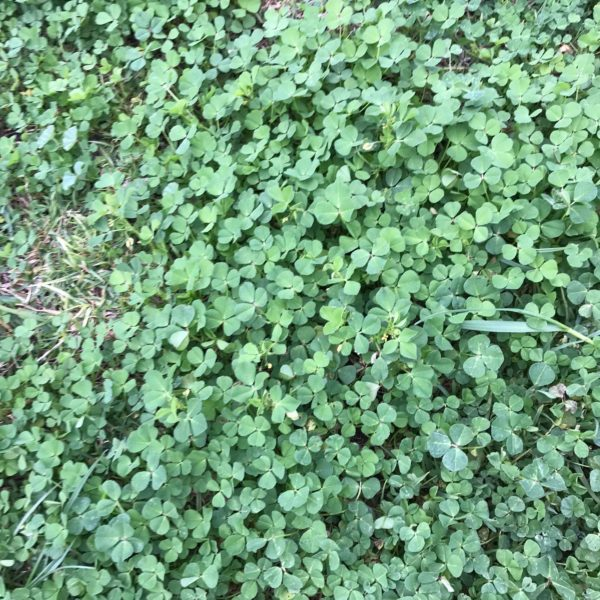oxalis: (78, 44, 562, 600)
